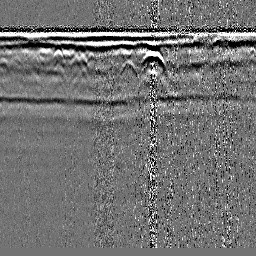cavity: (118, 58, 138, 77)
